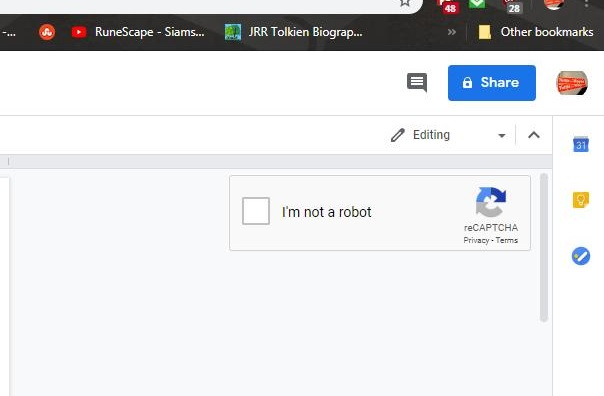captcha: (242, 197, 375, 225)
